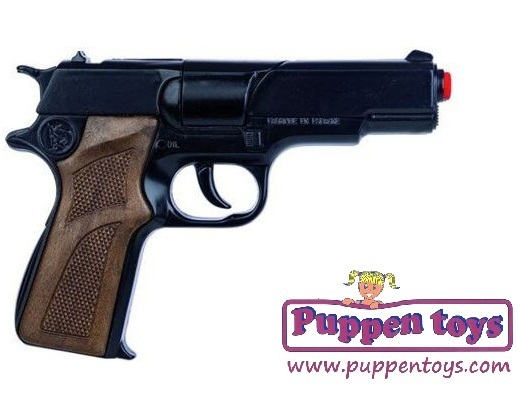Arma Falsa: (5, 48, 459, 363)
